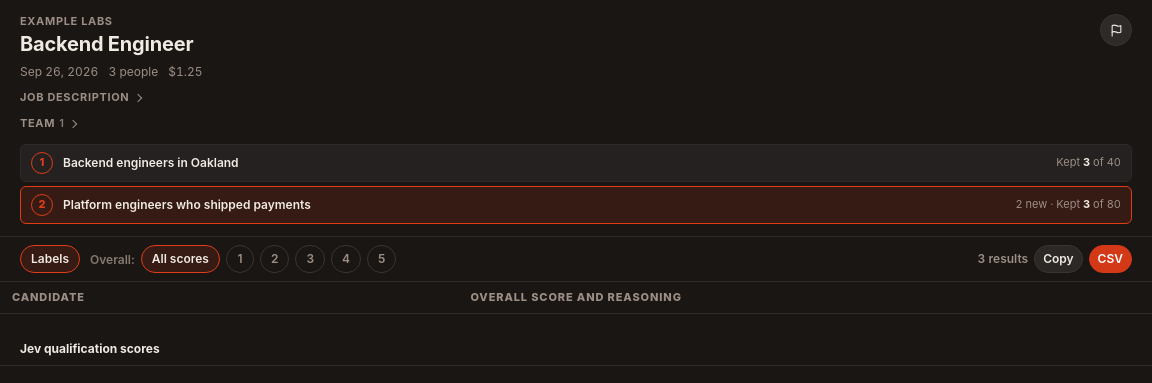
Test: RunView › shows the header, the pond chain and both score tables in the documented order
Click the button "Kept" at (187, 205), box [20,186,1132,224]
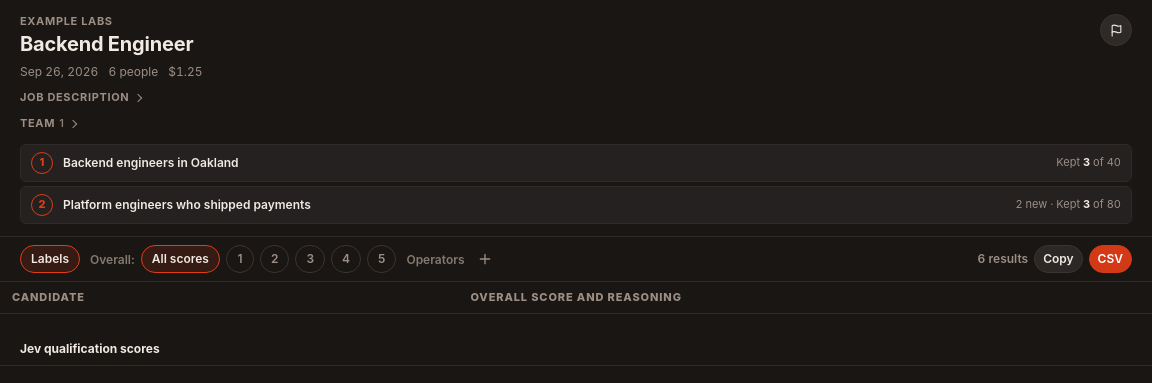
Expected: the heading "Backend Engineer" is shown, [20,32,193,56]
Result: the text "6 people" is shown at [108,63,158,80]
